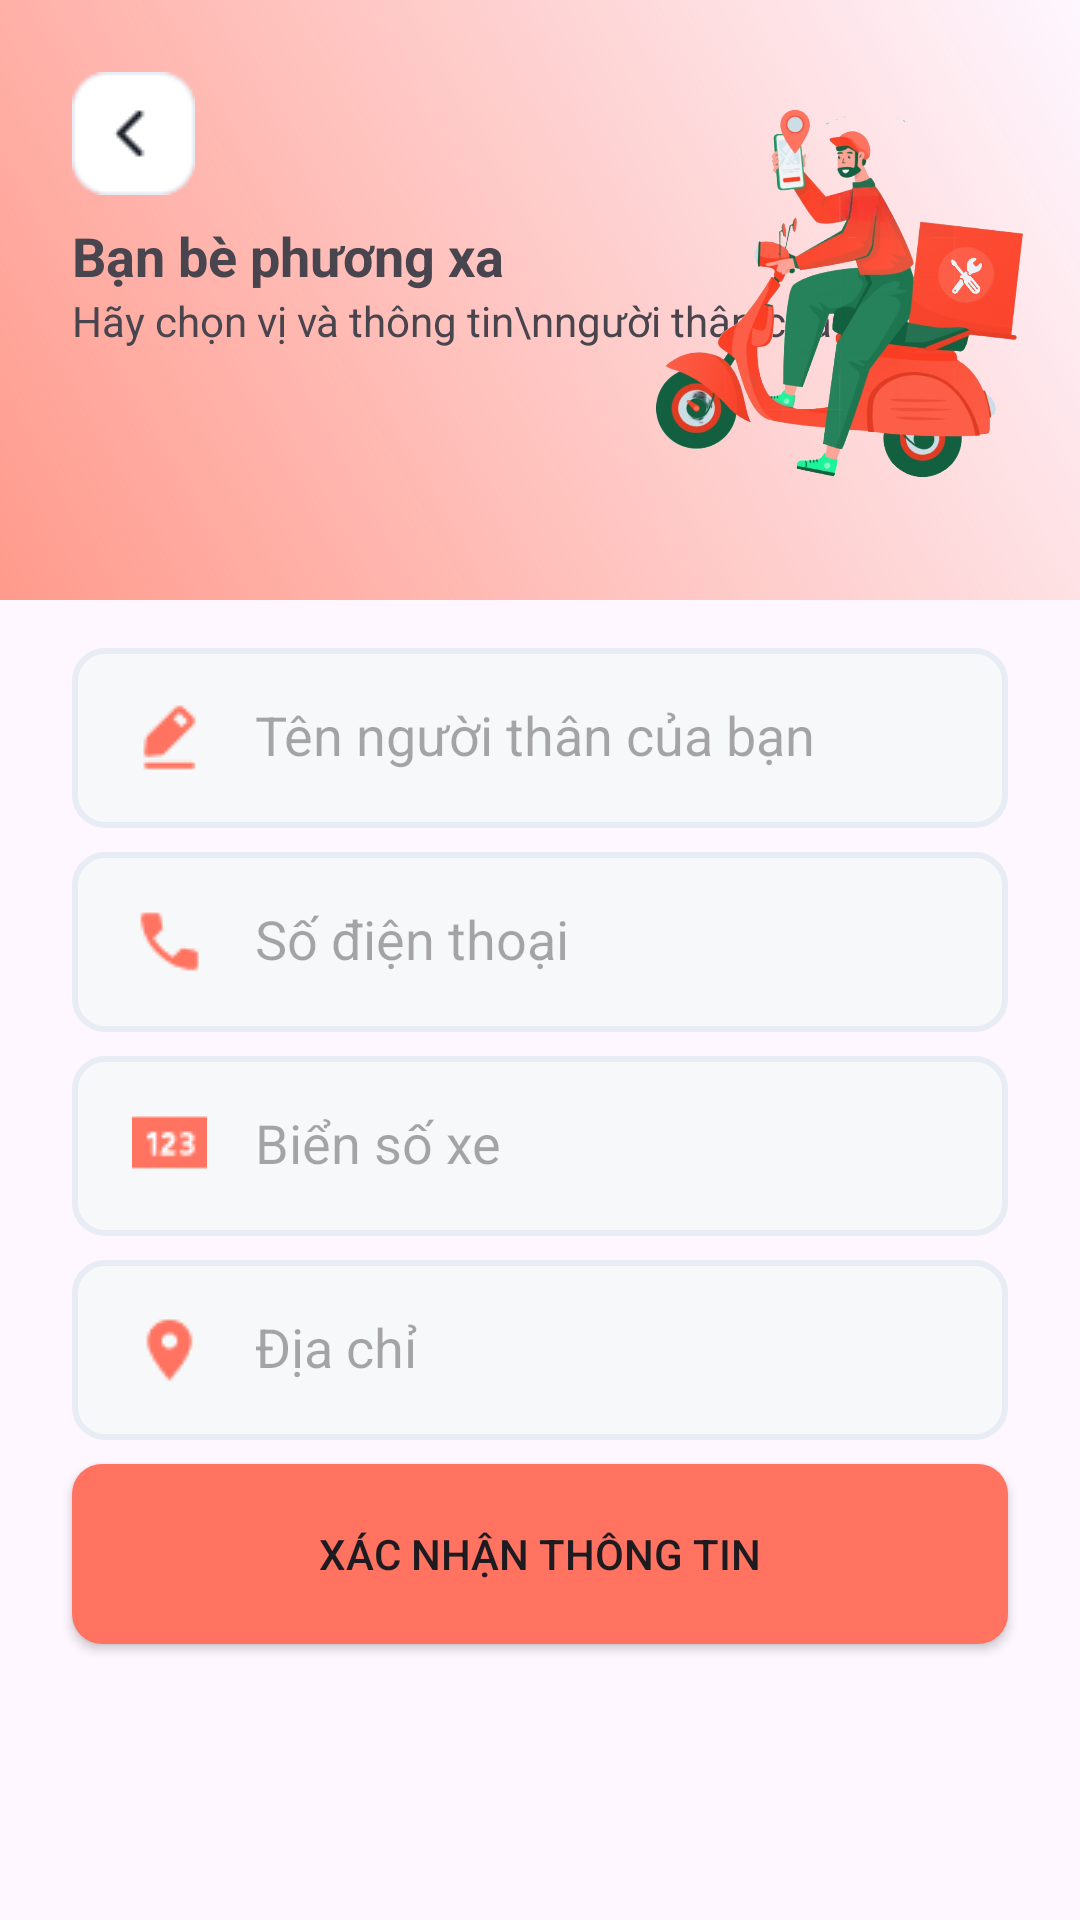

Point at icon controls on the screen. Image size 1080*1920, points as point (x, y).
back: point (133, 133)
